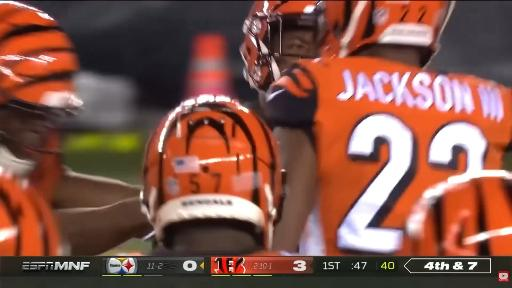Helmet: (142, 95, 282, 247), (0, 2, 82, 122), (401, 170, 511, 255), (318, 1, 455, 65), (240, 1, 317, 92), (0, 168, 63, 255)
Jersey: (266, 57, 511, 255), (400, 170, 512, 256), (0, 176, 62, 255), (30, 153, 65, 203)
Player: (266, 1, 511, 255), (0, 2, 150, 254), (142, 95, 282, 255), (400, 171, 511, 255), (240, 1, 319, 115), (0, 168, 66, 256)
